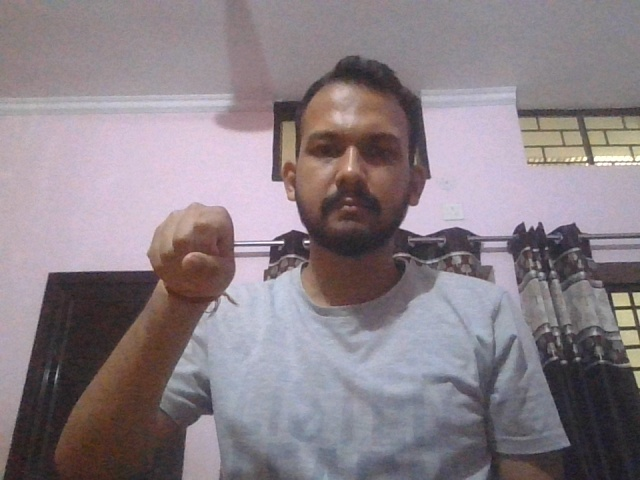yes: (148, 205, 239, 302)
